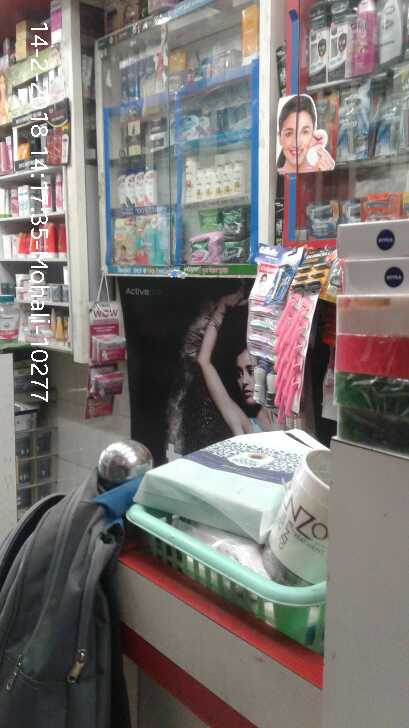gillete: (339, 80, 372, 162), (255, 245, 297, 293), (376, 105, 403, 157), (307, 198, 340, 238), (317, 82, 339, 136), (364, 196, 397, 219), (248, 361, 263, 407), (345, 198, 363, 219), (265, 372, 274, 412)
venus: (275, 295, 313, 422), (180, 114, 199, 141), (235, 100, 249, 133), (218, 106, 234, 134), (202, 115, 211, 136)
